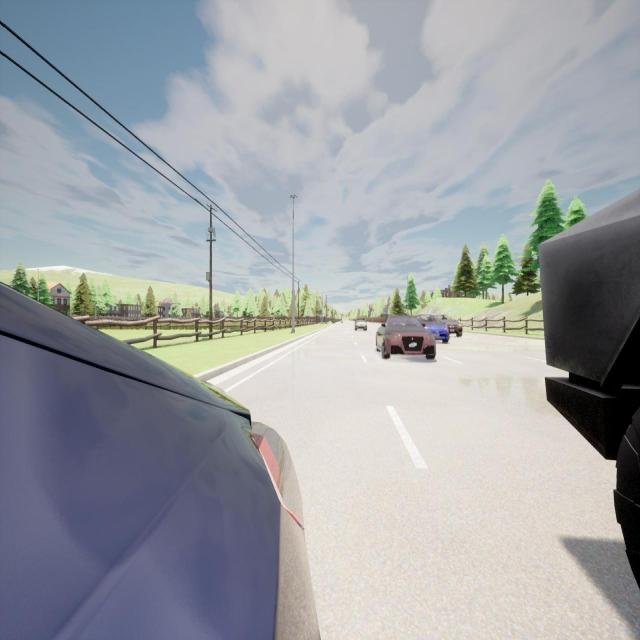Vehicle: (0, 284, 319, 638), (539, 190, 639, 586), (376, 315, 436, 360), (415, 312, 450, 344), (439, 314, 462, 336), (354, 313, 368, 331)
